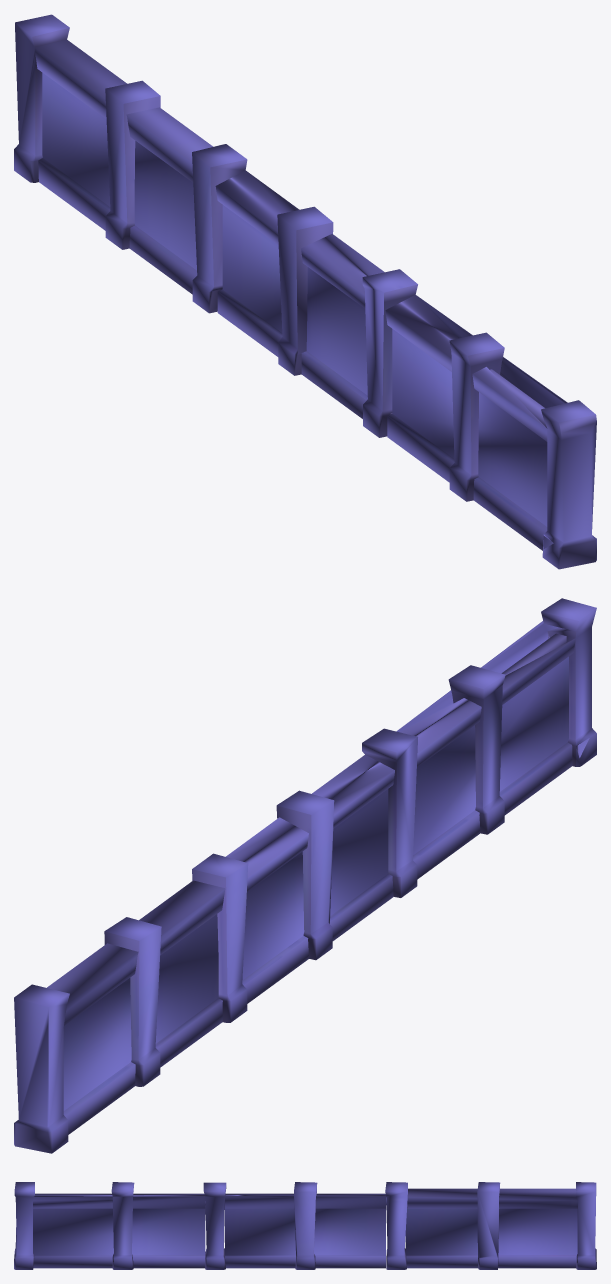
Rendered from model.progressive.glb.
3 views of the same model, one above another, from view 1: azimuth 30°, elevation 25°; view 2: azimuth 150°, elevation 25°; view 3: azimuth 270°, elevation 25° (orthographic). The views are drawn at different scales.
Parts seen in each view (by area): view 1: material; view 2: material; view 3: material.
Part boxes in pixels (<box>): material: <box>14,14,596,569</box>; material: <box>14,598,596,1153</box>; material: <box>14,1182,596,1269</box>.
Bounding box in the file's own units: 0.0762 × 0.2813 × 1.9.
1 material, 1 textured.
